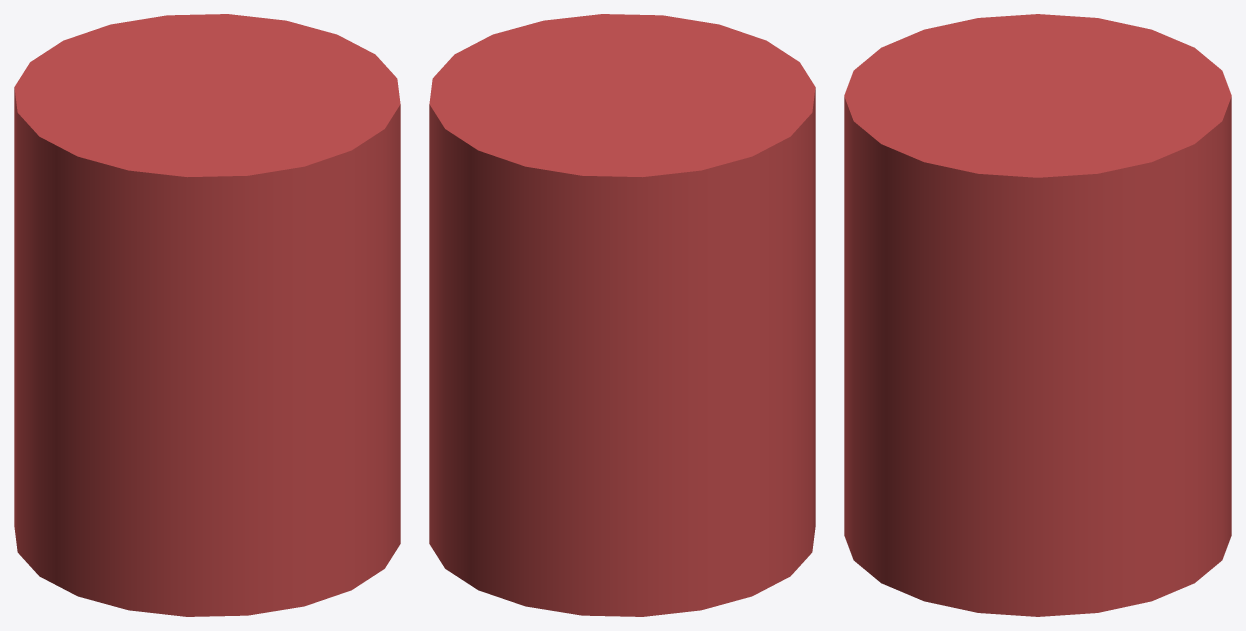
The picture shows the model from 3 angles, left to right: view 1: azimuth 30°, elevation 25°; view 2: azimuth 150°, elevation 25°; view 3: azimuth 270°, elevation 25°; orthographic projection.
Parts seen in each view (by area): view 1: pCylinder1; view 2: pCylinder1; view 3: pCylinder1.
Boxes of the visible parts, <box> form: pCylinder1: <box>14,14,400,616</box>; pCylinder1: <box>429,14,815,616</box>; pCylinder1: <box>844,14,1231,616</box>.
Bounding box in the file's own units: 2 × 2.5 × 2.
